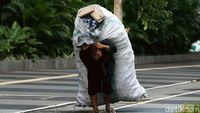pemulung: (58, 2, 150, 113)
